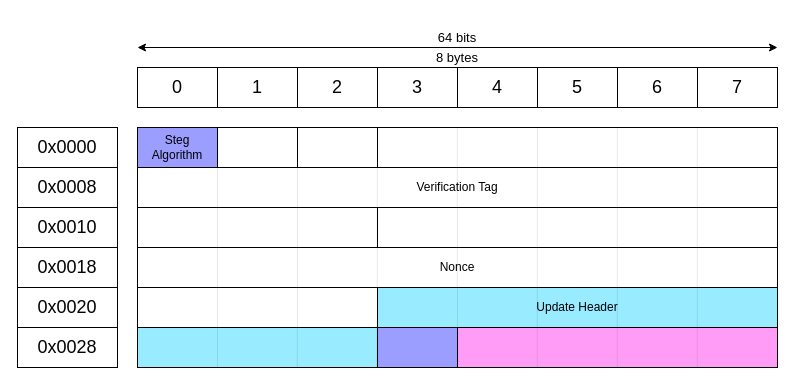
This 804x385 diagram has some shape labels left out. Each missing label, with the centre of its shape:
"Block Size" belongs at point 257,147.
"Encryption Key (u nknown length)" belongs at point 617,347.
"Num of Sacrificed Bits" belongs at point 417,347.
"Symbol Num" belongs at point 337,147.
